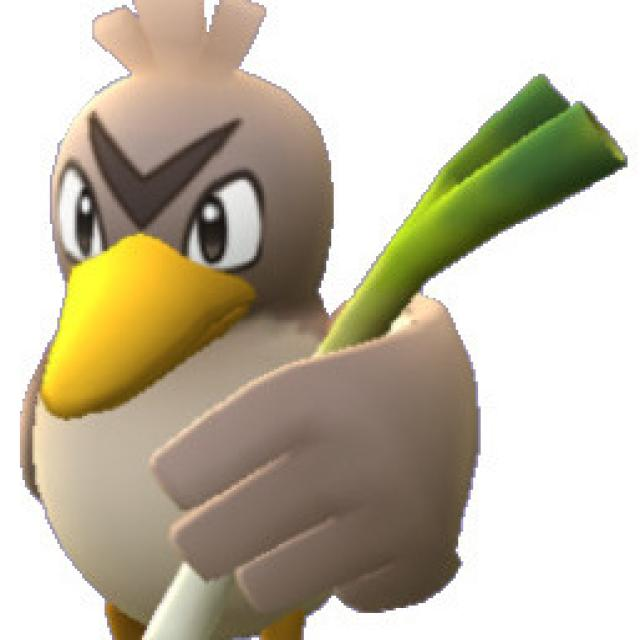Farfetchd: (18, 0, 477, 640)
